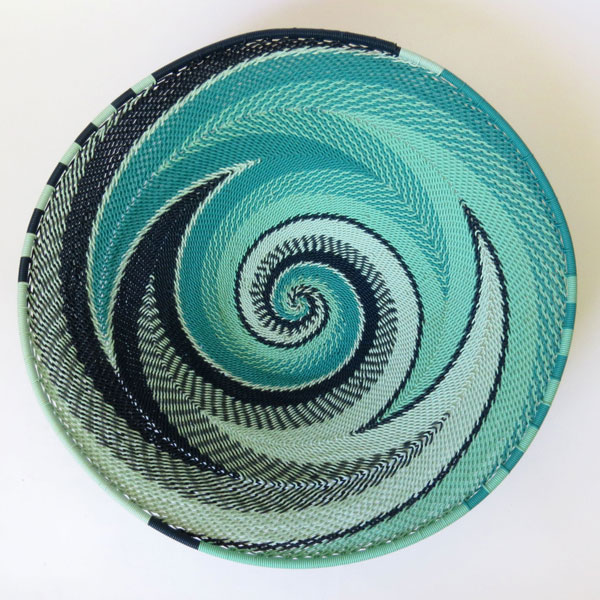Nonrec_Tangler: (1, 24, 588, 546)
